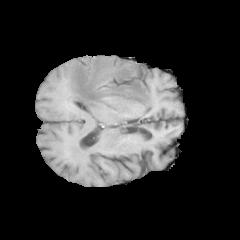glioma: (63, 58, 153, 113)
